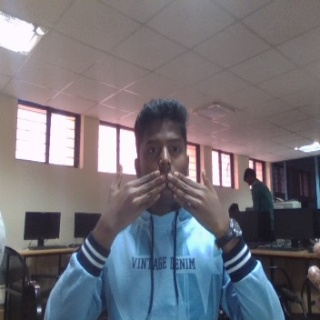Thank You: (99, 161, 235, 246)
